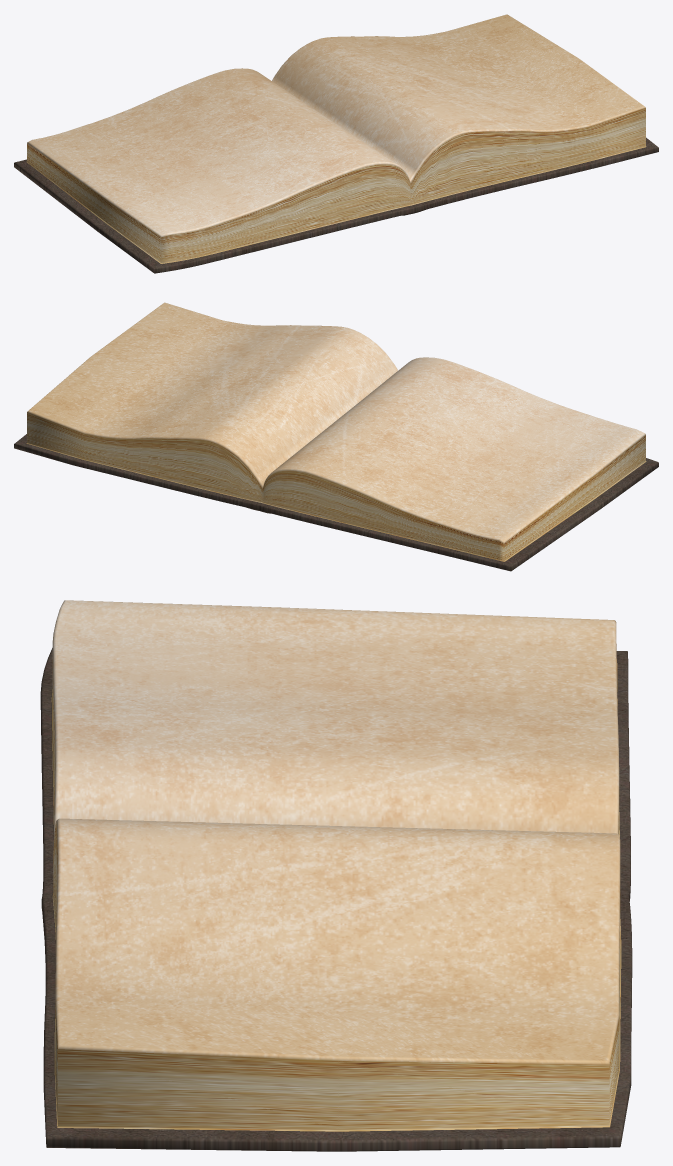
File: OldBookOpen.fbx
3 views of the same model, one above another, from view 1: azimuth 30°, elevation 25°; view 2: azimuth 150°, elevation 25°; view 3: azimuth 270°, elevation 25° (orthographic). The views are drawn at different scales.
Parts seen in each view (by area): view 1: OpenBook; view 2: OpenBook; view 3: OpenBook.
Boxes of the visible parts, box(x1,y1,x2,y2) form: OpenBook: box(14, 14, 658, 273); OpenBook: box(14, 302, 658, 571); OpenBook: box(40, 600, 632, 1151).
Bounding box in the file's own units: 97.55 × 12.16 × 49.27.
